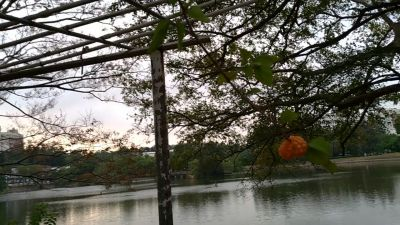eggs: (278, 134, 308, 160)
